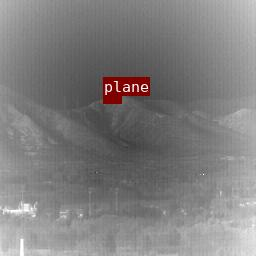plane: (103, 96, 121, 103)
